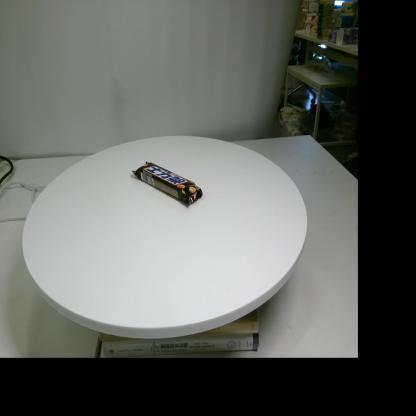Chocolate: (132, 161, 202, 205)
